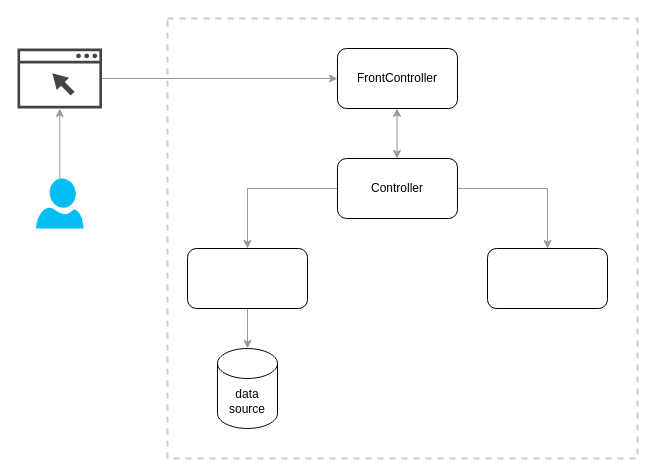
Some shapes in this 655 by 476 pixel diagram are drawn without their labels. Here are the shapes that lost their labels. From the top down, the centre of each, then its label:
At point (247, 278): "Model".
At point (547, 278): "View".
